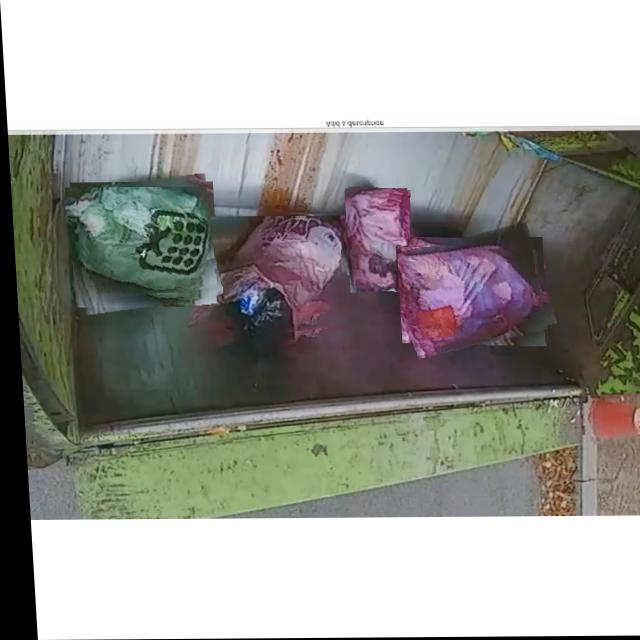general_trashbag: (63, 188, 209, 293)
other_trashbag: (187, 217, 351, 333), (394, 248, 542, 357), (345, 194, 406, 292)
